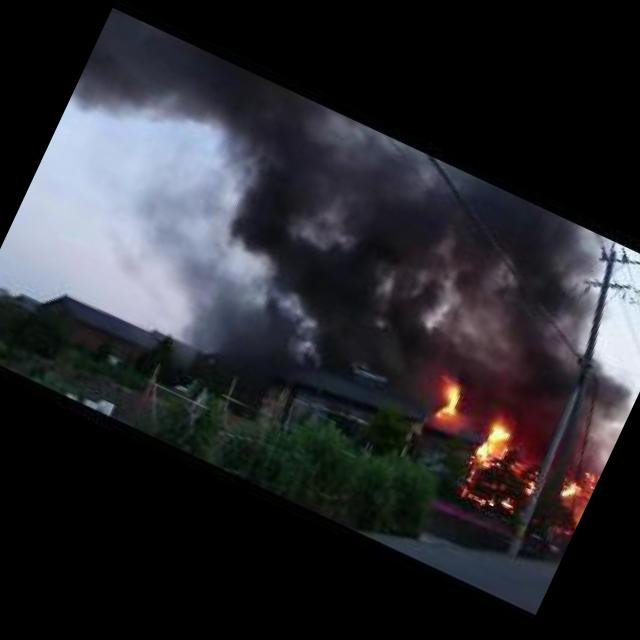fire: (472, 418, 518, 471), (432, 378, 468, 422), (460, 486, 496, 508), (558, 479, 578, 500), (500, 498, 515, 510)
smoke: (27, 15, 617, 428), (528, 350, 640, 493)
